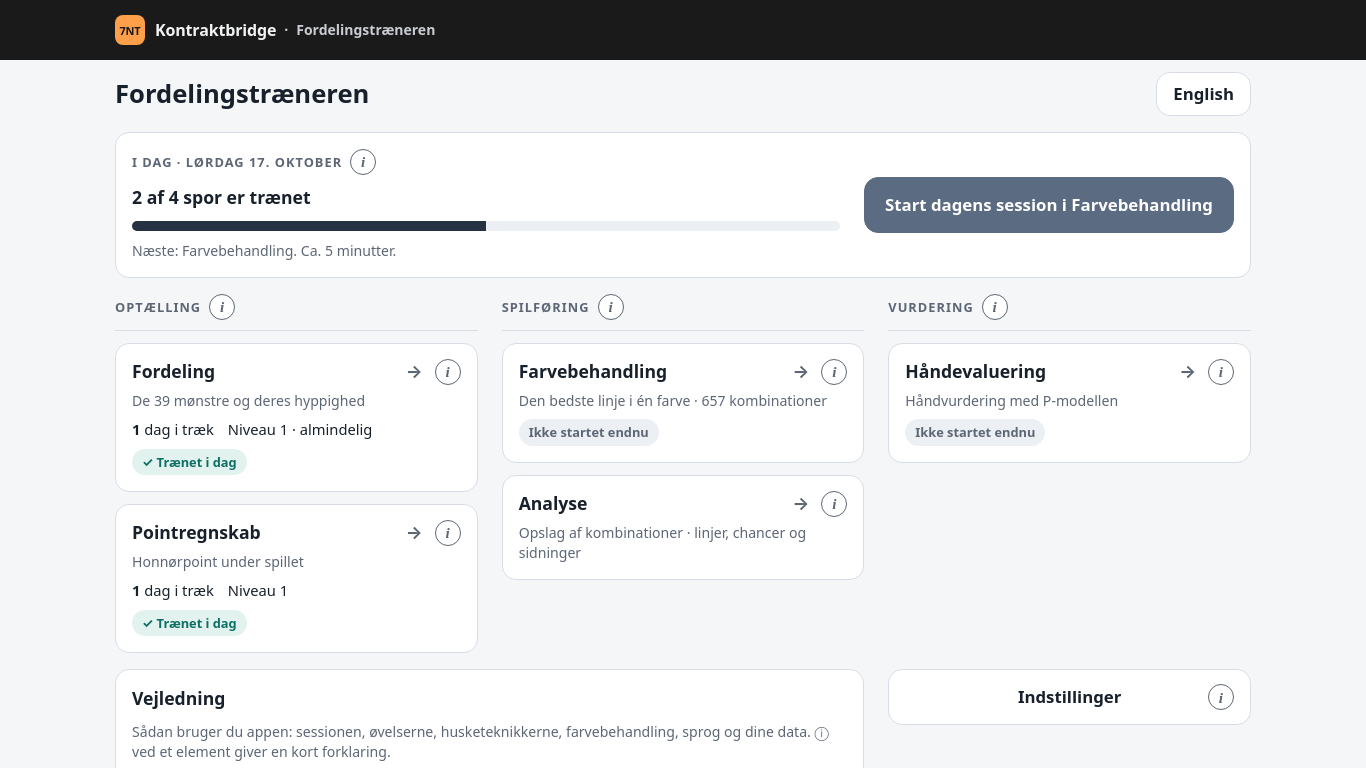
Test: Forsiden (SPEC-forside-spor.md) › I dag starter også Farvebehandlings session direkte, når den er det næste spor
Expected: the text "Næste: Farvebehandling. Ca. 5 minutter." is shown, top-left (132, 240), bottom-right (396, 260)
Click the button "Start dagens session i Farvebehandling".
click(1049, 205)  # box top-left (864, 177), bottom-right (1234, 233)
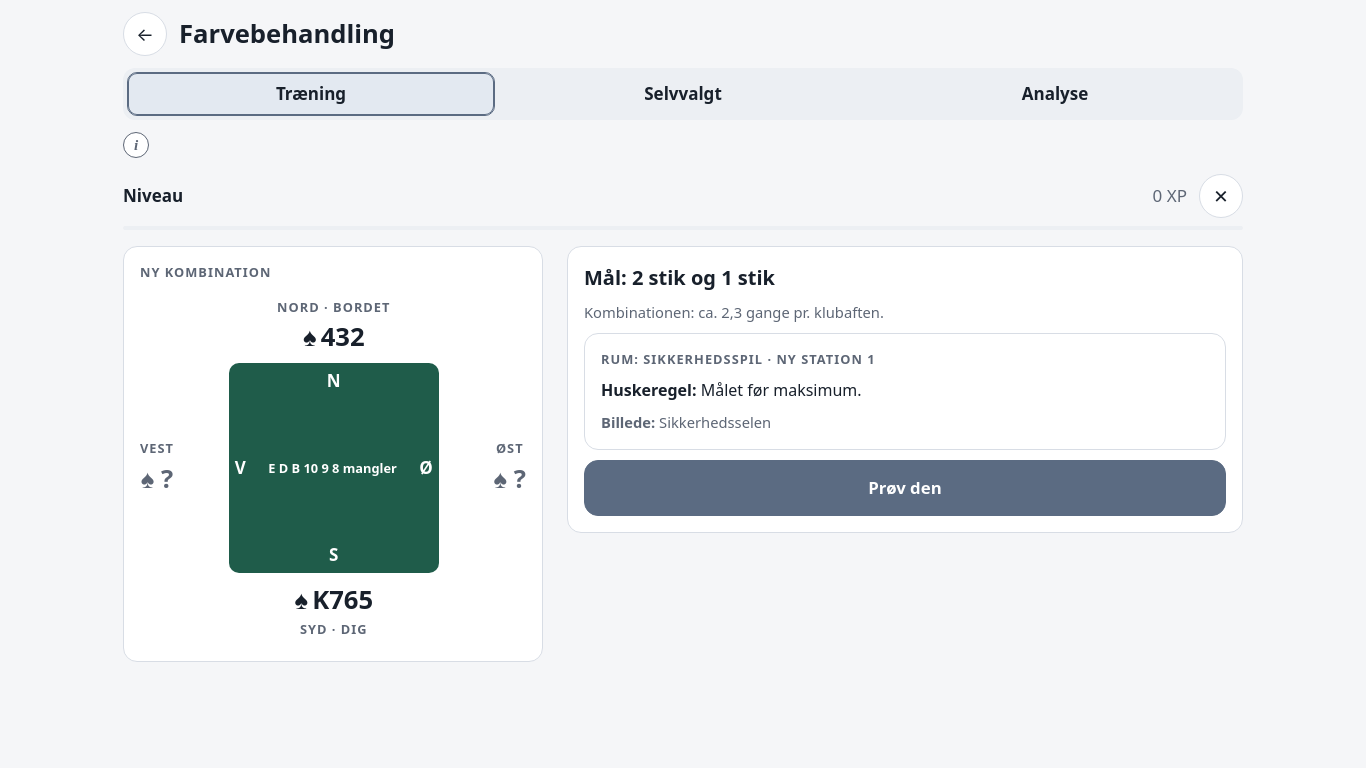
Expected: the button named "Afbryd sessionen" is shown, top-left (1199, 174), bottom-right (1243, 218)
Expected: the header with class "topbar" is gone
